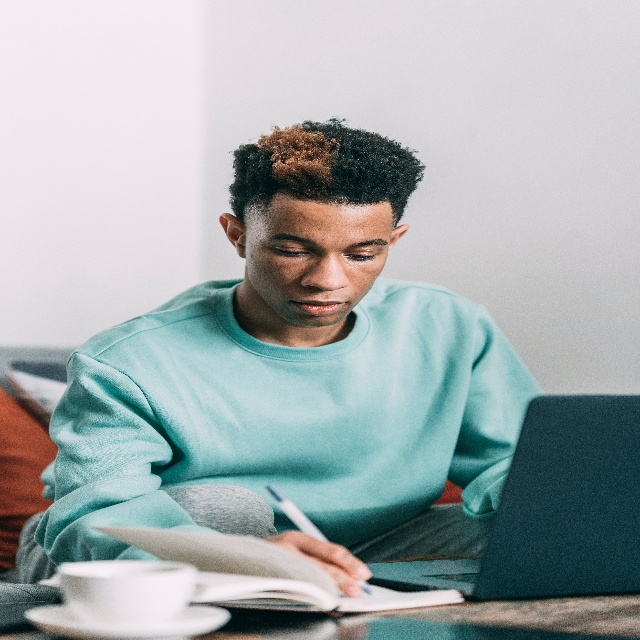Sin_guantes: (261, 529, 375, 602)
